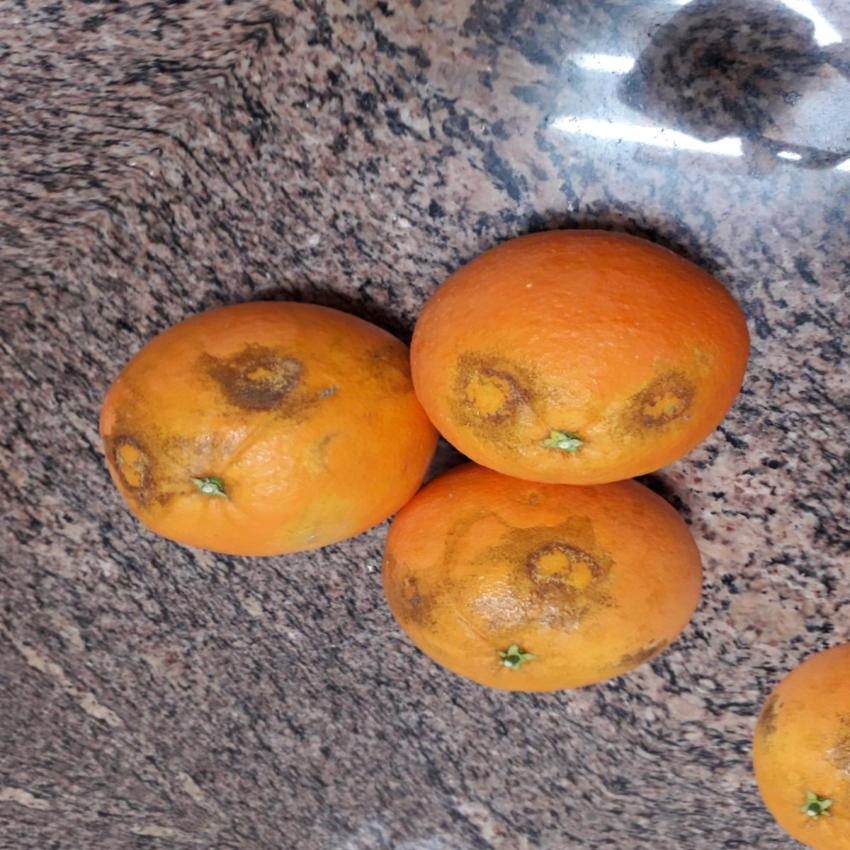Mal estado: (77, 288, 447, 574), (394, 210, 748, 508), (363, 470, 726, 710)
